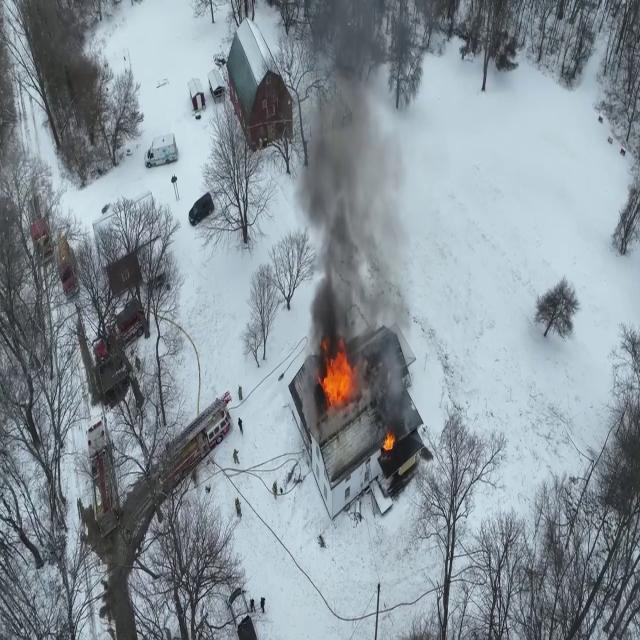Fire: (318, 338, 359, 418), (382, 434, 396, 456)
Smoke: (290, 2, 427, 350)
